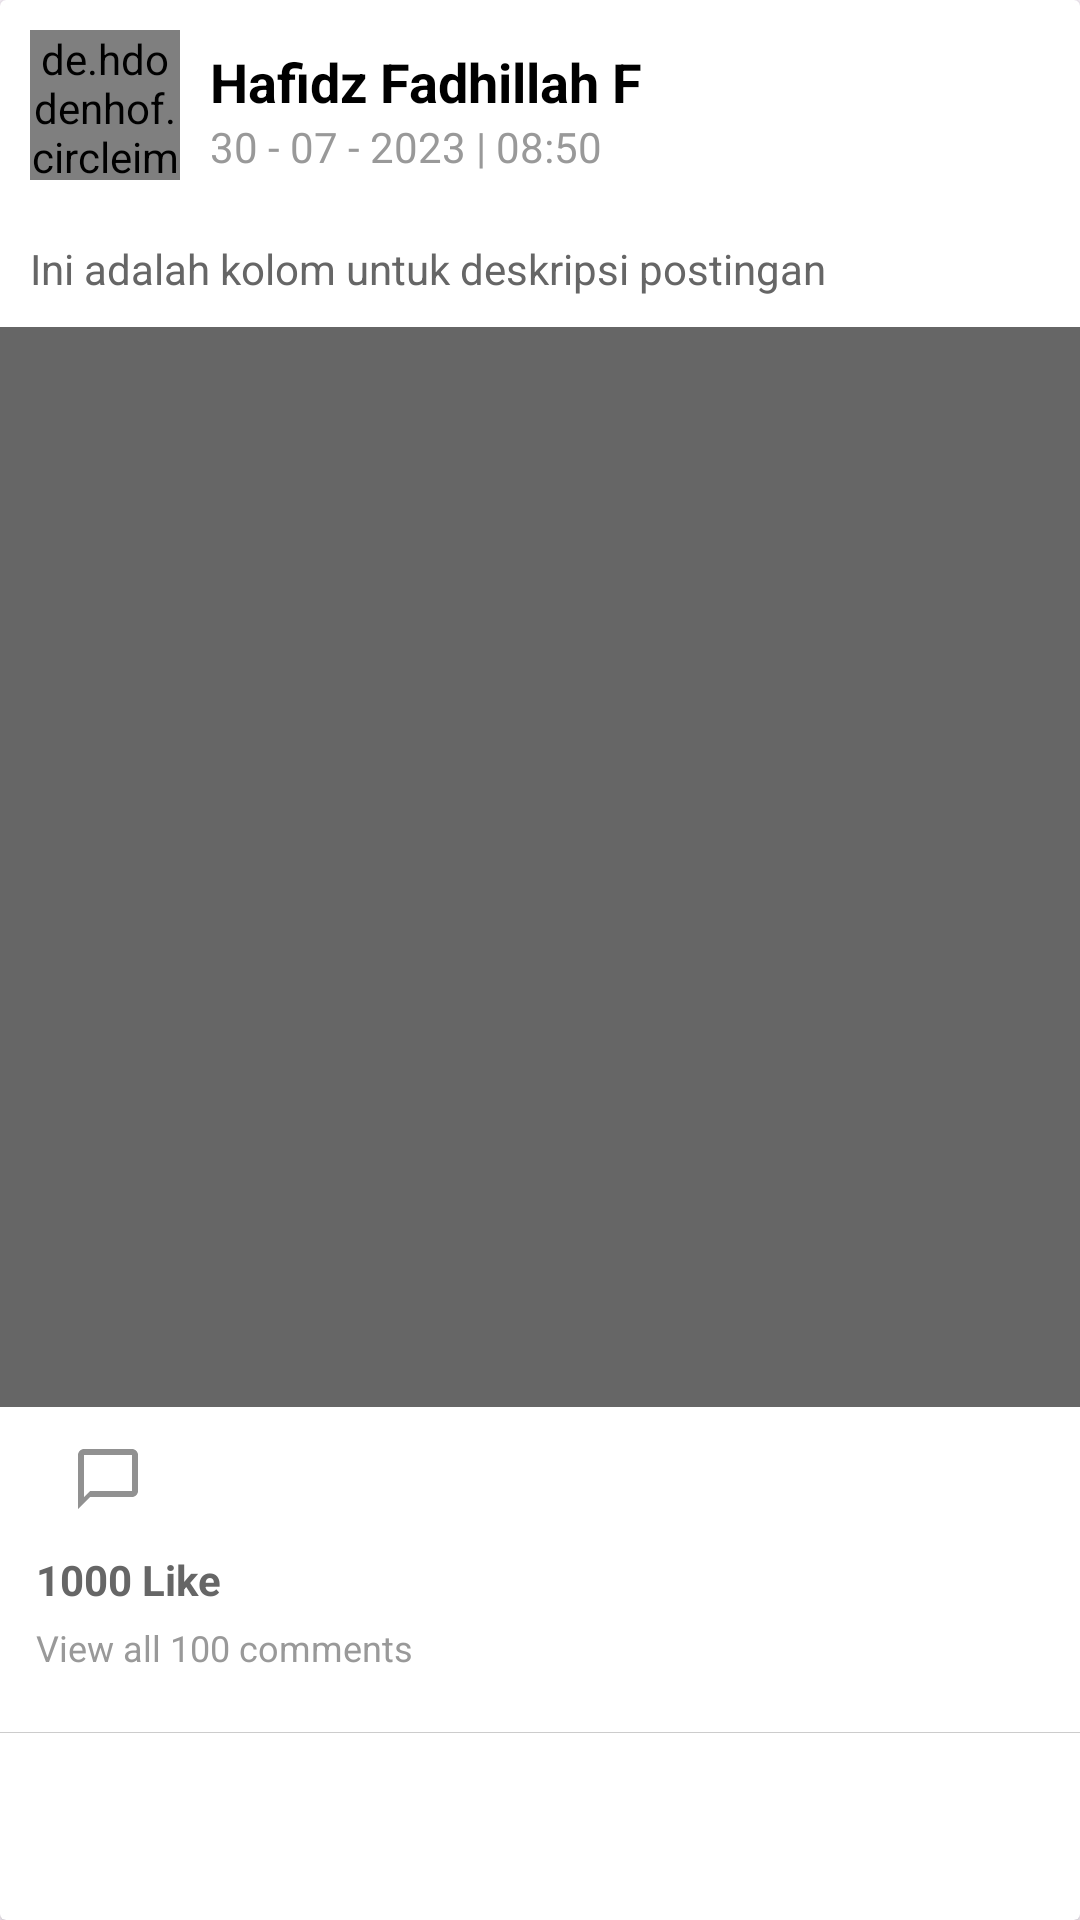

Where to tap for icons on this 1080*1920 app screen, as (x,y):
chat bubble: (108,1479)
